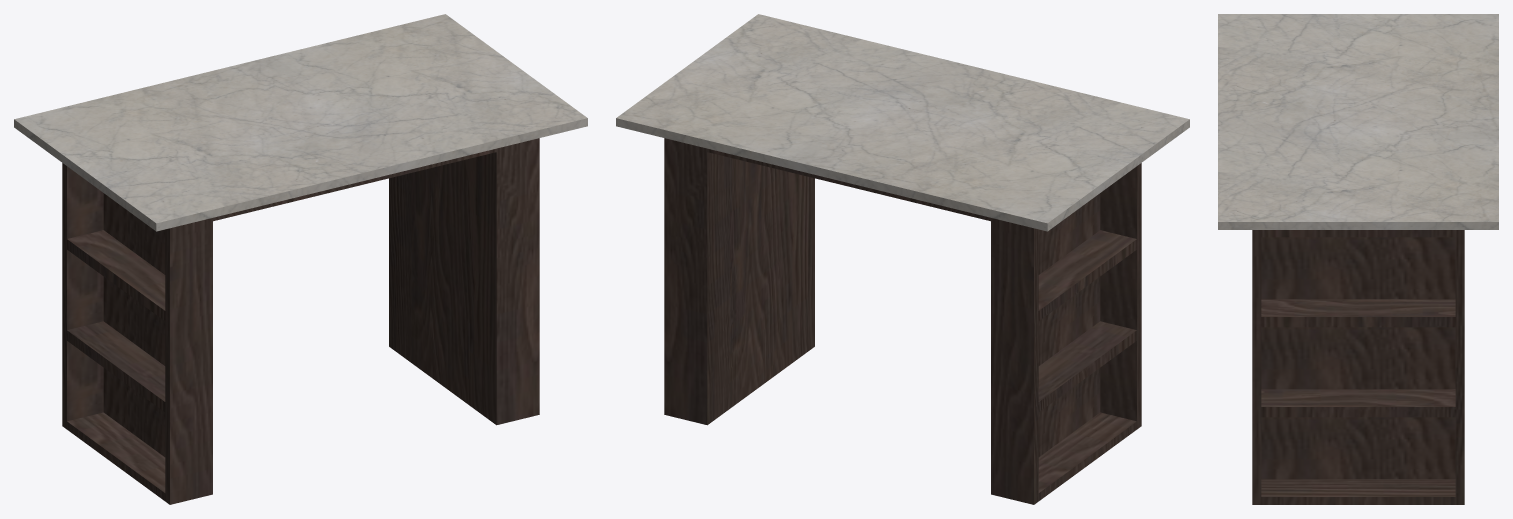
The model's file is Table_11.glb.
The picture shows the model from 3 angles, left to right: view 1: azimuth 30°, elevation 25°; view 2: azimuth 150°, elevation 25°; view 3: azimuth 270°, elevation 25°; orthographic projection.
Visible parts, largest first — view 1: Table_11; view 2: Table_11; view 3: Table_11.
Part boxes in pixels (box(x1,y1,x2,y2)): Table_11: box(14, 14, 587, 504); Table_11: box(616, 14, 1189, 504); Table_11: box(1218, 14, 1498, 504).
Size of the model in its own units: 1.53 by 1.02 by 0.8734.
2 materials, 2 textured.
